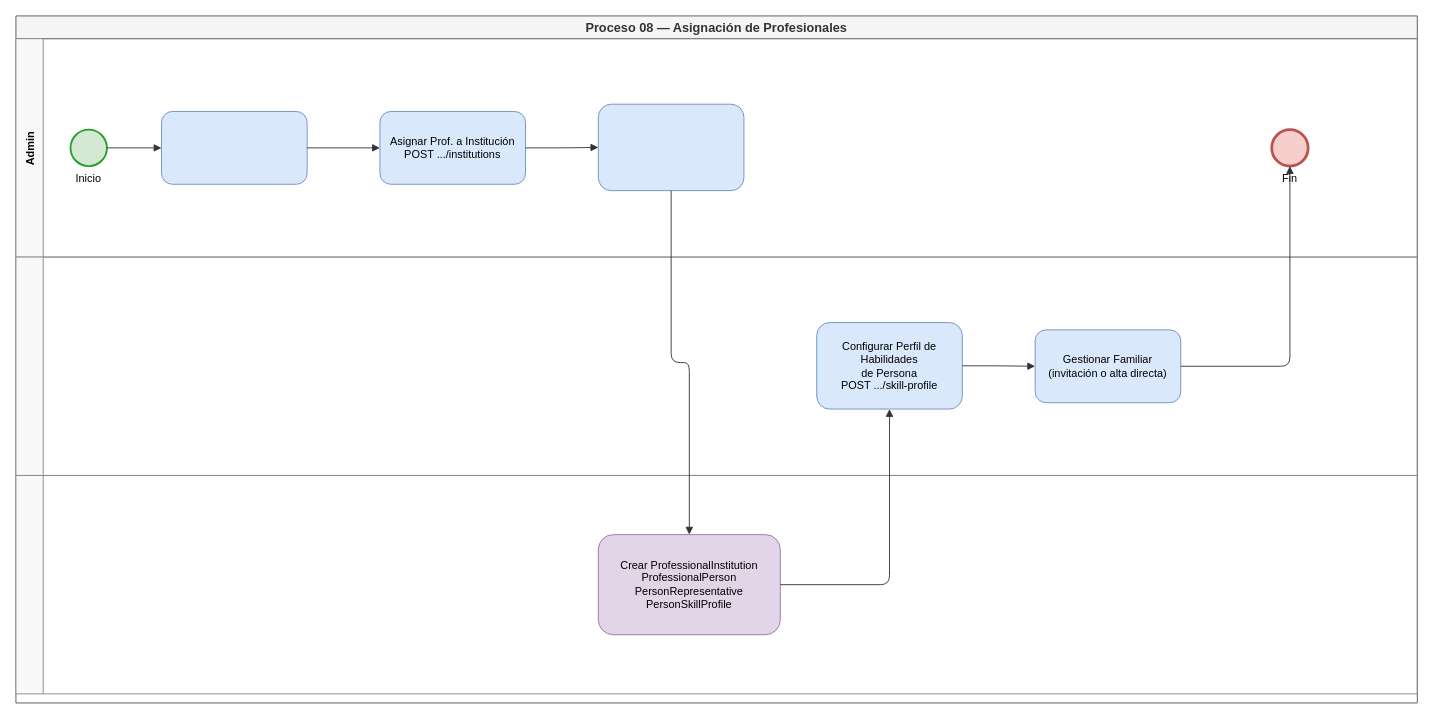
The diagram is 1433 pixels wide and 719 high, and some of its shapes have lost their labels. The box of each missing label's shape, as (x1, y1, x2, y2) in pixels:
Alta de Profesional POST /api/professionals: (161, 111, 307, 184)
Asignar Prof. a Persona POST .../persons (IsPrimary, CanSupervise): (597, 103, 744, 191)
Profesional: (15, 256, 1417, 475)
Sistema: (15, 475, 1417, 694)
